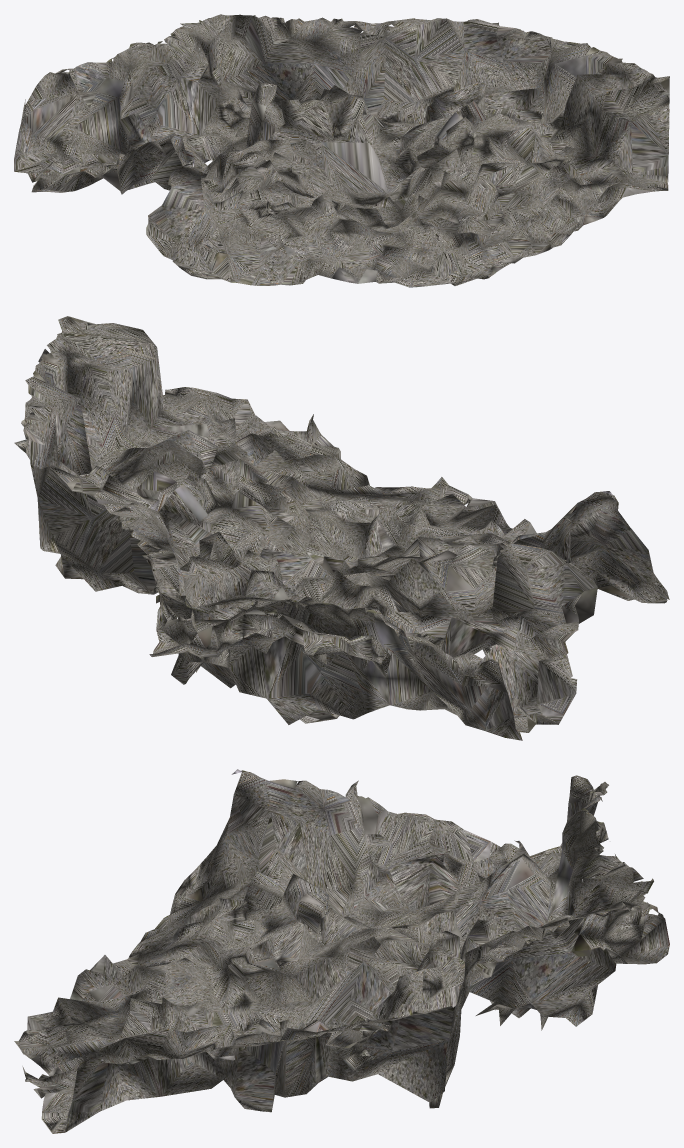
The model's file is boulder-field.zfix-v1.lod1.glb.
The picture shows the model from 3 angles, top to bottom: view 1: azimuth 30°, elevation 25°; view 2: azimuth 150°, elevation 25°; view 3: azimuth 270°, elevation 25°; orthographic projection. The views are drawn at different scales.
Parts seen in each view (by area): view 1: Object_4; view 2: Object_4; view 3: Object_4.
Part boxes in pixels (x1,y1,x2,y2): Object_4: (14, 14, 669, 287); Object_4: (14, 316, 669, 740); Object_4: (14, 769, 669, 1133).
Bounding box in the file's own units: 110 × 26.68 × 92.77.
Materials: 2 (1 with a texture image).
